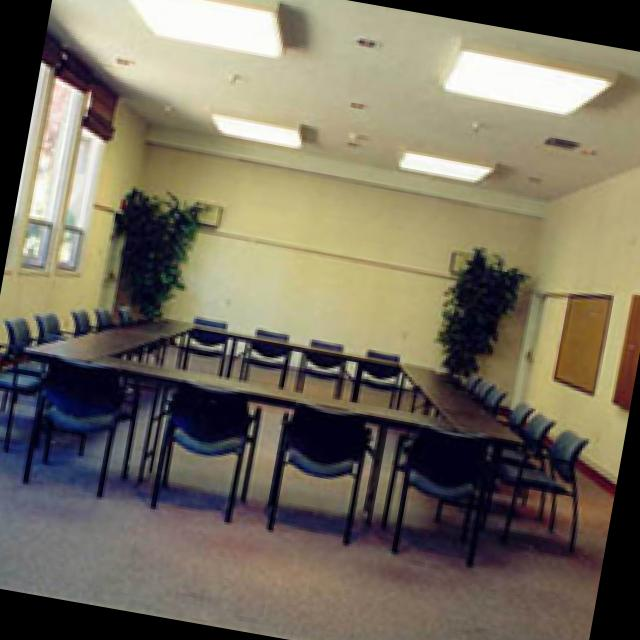door bars: (0, 66, 109, 586), (559, 241, 640, 595), (281, 199, 337, 351), (342, 212, 402, 342)
